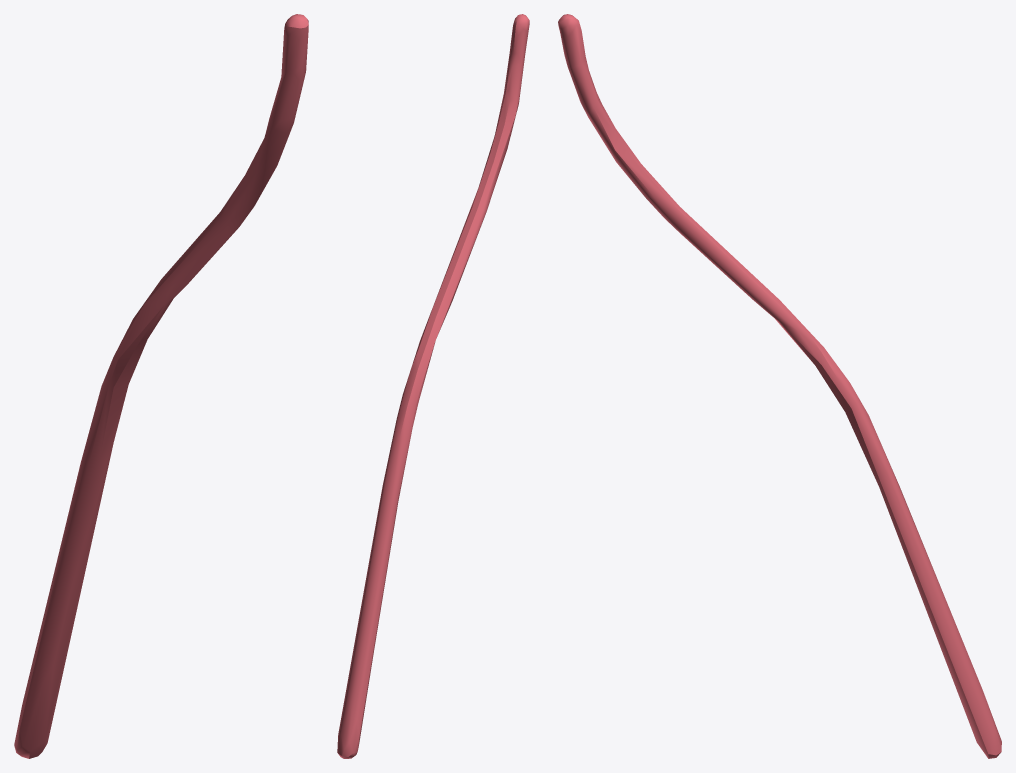
Rendered from fma51390_fj4708.glb.
The picture shows the model from 3 angles, left to right: view 1: azimuth 30°, elevation 25°; view 2: azimuth 150°, elevation 25°; view 3: azimuth 270°, elevation 25°; orthographic projection. The views are drawn at different scales.
Parts seen in each view (by area): view 1: FMA51390_FJ4708; view 2: FMA51390_FJ4708; view 3: FMA51390_FJ4708.
Part boxes in pixels (x1=…): FMA51390_FJ4708: x1=14, y1=14, x2=308, y2=758; FMA51390_FJ4708: x1=337, y1=14, x2=529, y2=758; FMA51390_FJ4708: x1=558, y1=14, x2=1001, y2=758.
Size of the model in its own units: 0.0013 by 0.0382 by 0.0207.
